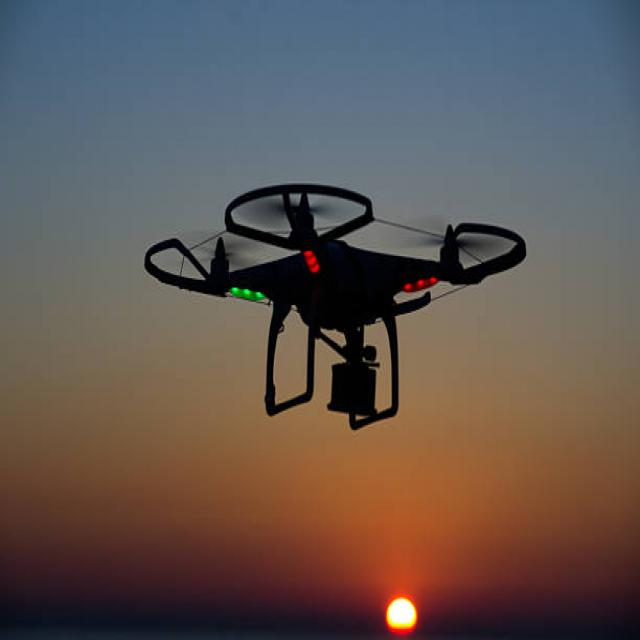drone: (133, 170, 535, 447)
